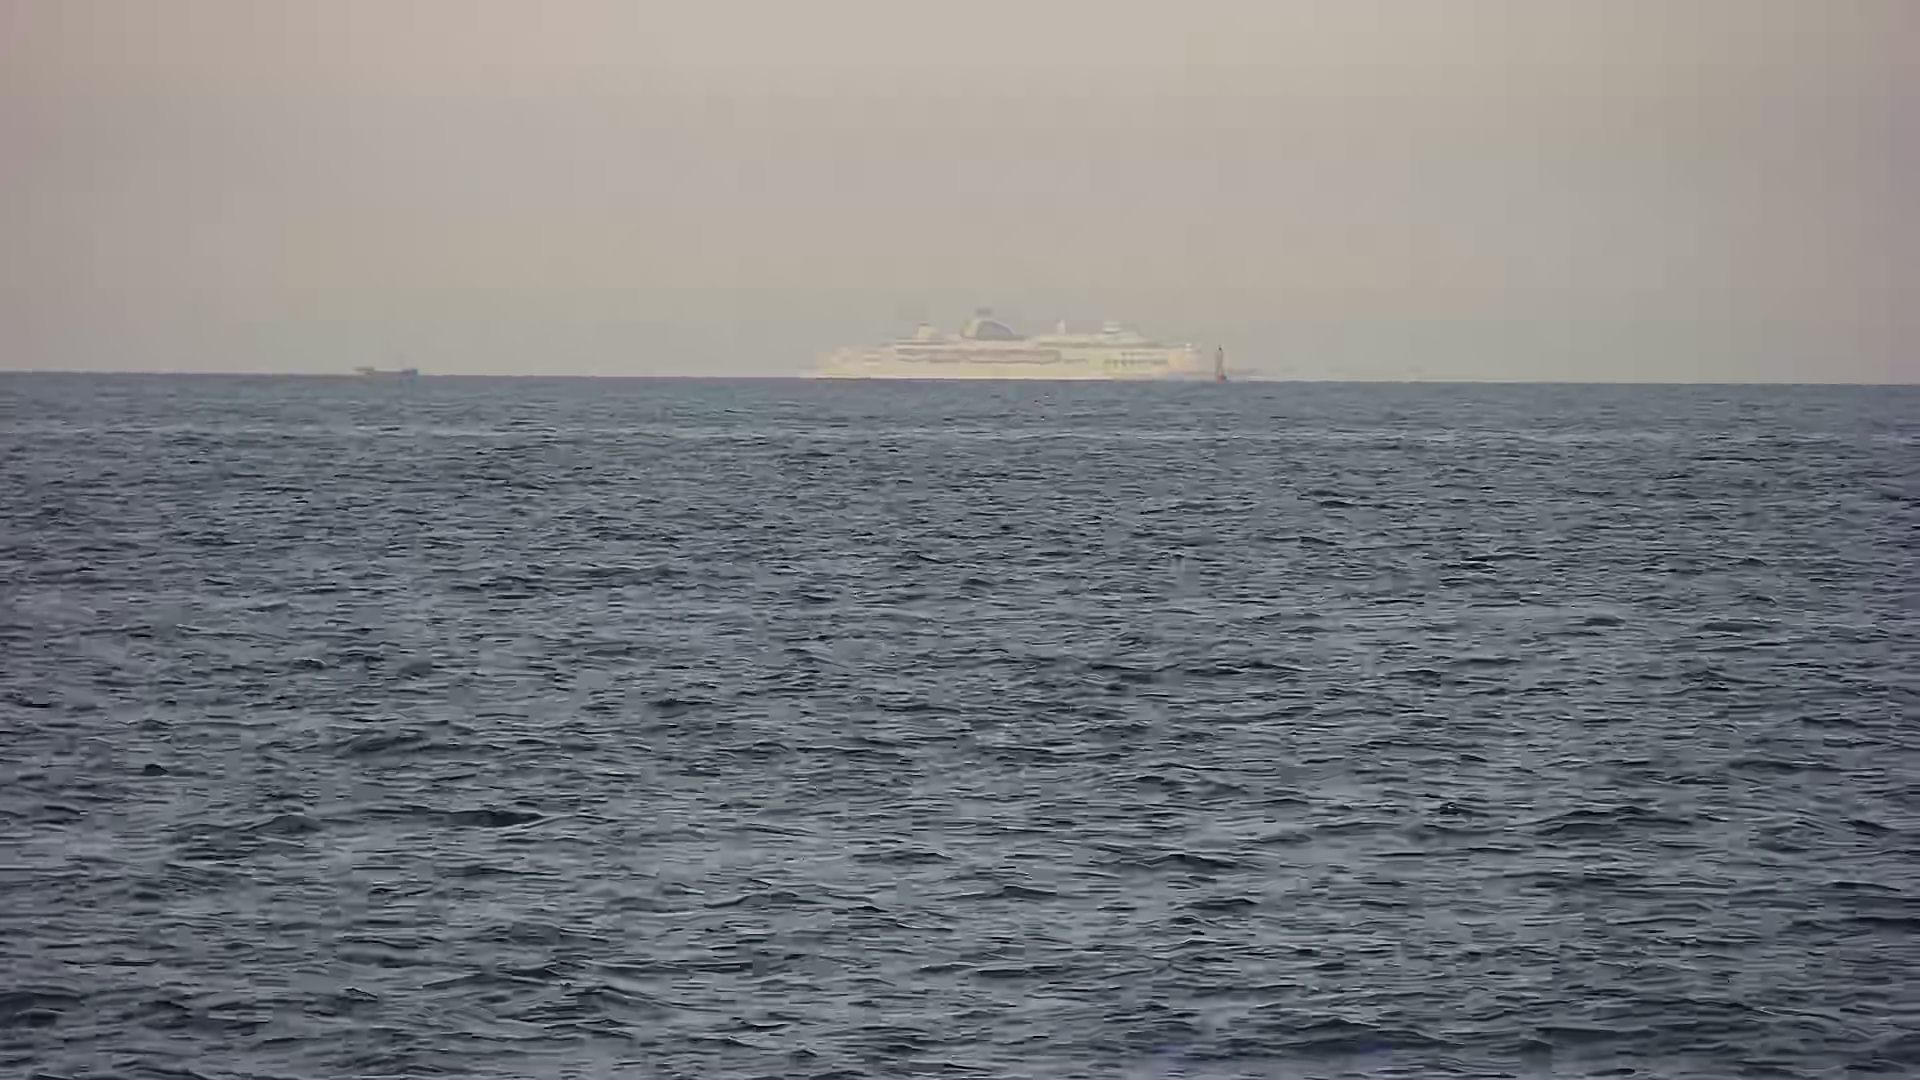ship: (795, 294, 1254, 393)
